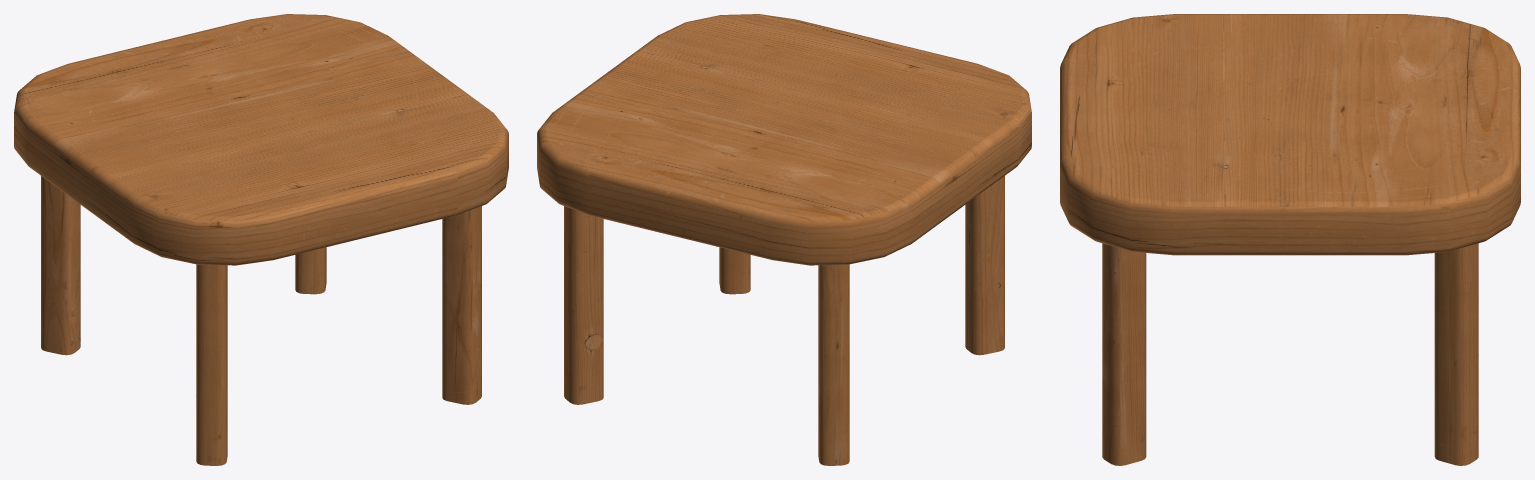
The model's file is Small stool 001.fbx.
The picture shows the model from 3 angles, left to right: view 1: azimuth 30°, elevation 25°; view 2: azimuth 150°, elevation 25°; view 3: azimuth 270°, elevation 25°; orthographic projection. The views are drawn at different scales.
Visible parts, largest first — view 1: Cube, Cube.001; view 2: Cube, Cube.001; view 3: Cube, Cube.001.
Boxes of the visible parts, left/top/right/bottom form: Cube: left=14, top=14, right=508, bottom=265; Cube.001: left=41, top=176, right=481, bottom=465; Cube: left=537, top=14, right=1031, bottom=265; Cube.001: left=564, top=176, right=1004, bottom=465; Cube: left=1060, top=14, right=1520, bottom=255; Cube.001: left=1102, top=243, right=1478, bottom=465.
Bounding box in the file's own units: 40 × 27 × 40.
